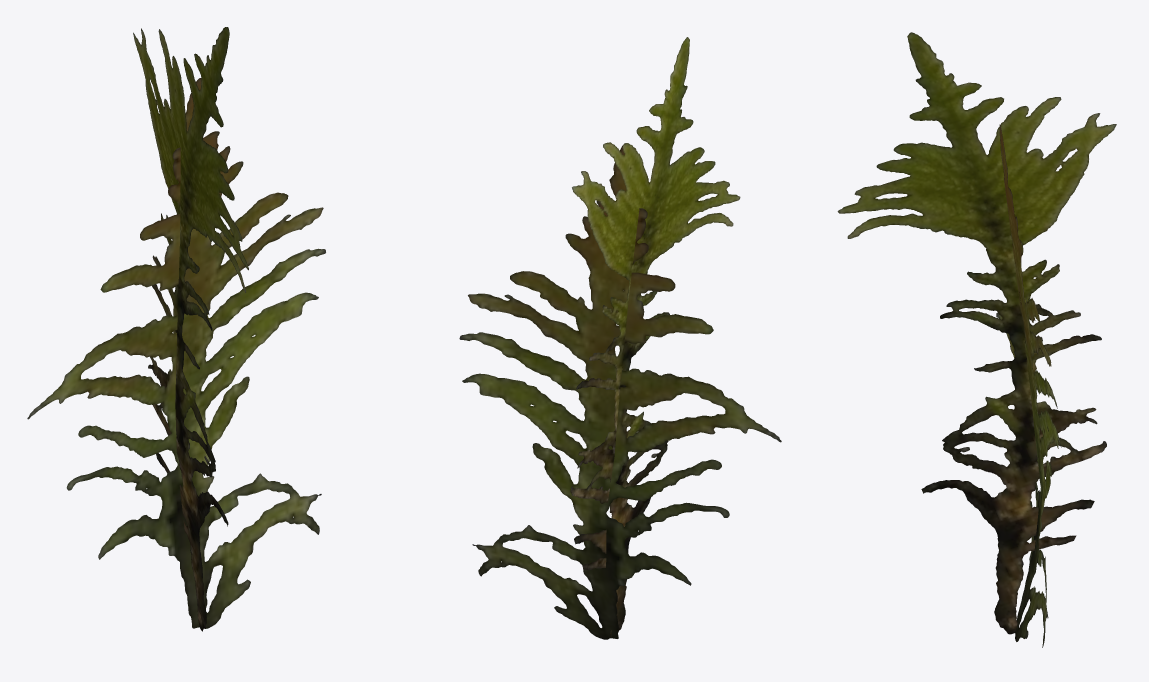
Rendered from moss_01_g_LOD1.glb.
3 views of the same model, side by side, from view 1: azimuth 30°, elevation 25°; view 2: azimuth 150°, elevation 25°; view 3: azimuth 270°, elevation 25° (orthographic). The views are drawn at different scales.
Visible parts, largest first — view 1: moss_01_g_LOD1__lod0; view 2: moss_01_g_LOD1__lod0; view 3: moss_01_g_LOD1__lod0.
Part boxes in pixels (box(x1,y1,x2,y2)): moss_01_g_LOD1__lod0: box(27, 27, 325, 631); moss_01_g_LOD1__lod0: box(459, 37, 781, 639); moss_01_g_LOD1__lod0: box(837, 32, 1116, 647).
Size of what is drawn, in the model's own units: 0.0129 by 0.0216 by 0.00948.
1 material, 1 textured.
